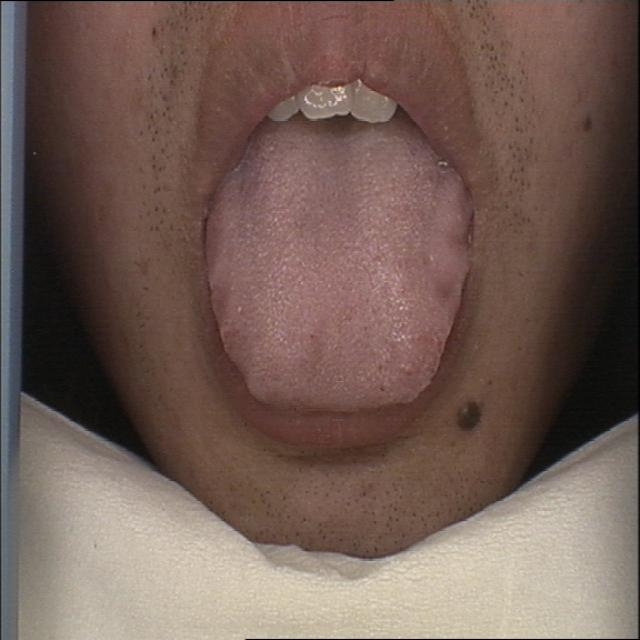tongue: (202, 132, 477, 418)
